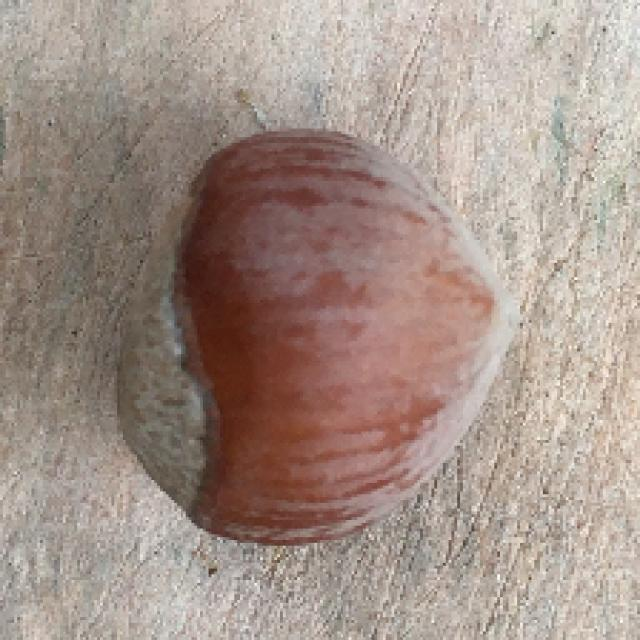qualityHazelnut: (112, 124, 523, 550)
